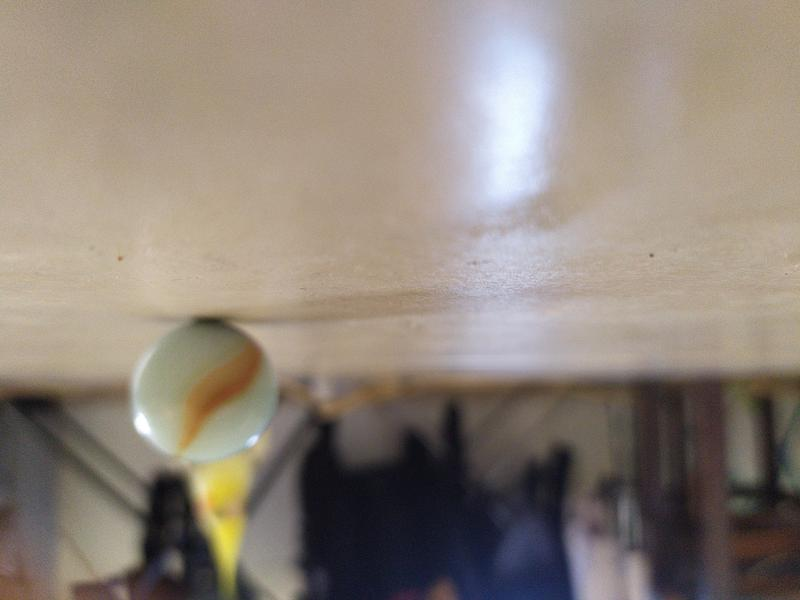Warning: (123, 311, 285, 467)
